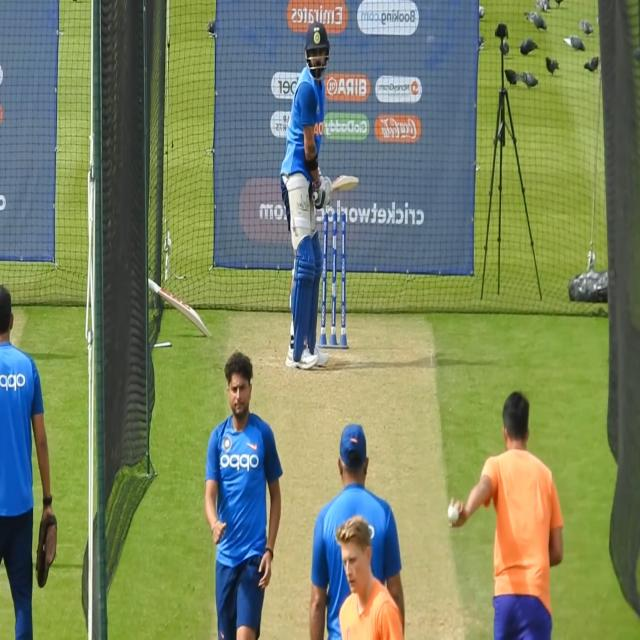stump: (317, 211, 349, 351)
